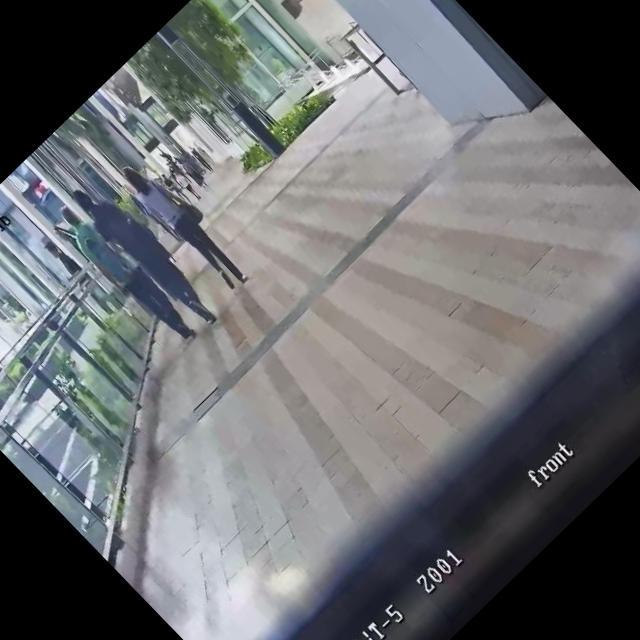person: (66, 172, 230, 339), (50, 196, 204, 354), (113, 150, 258, 298), (43, 236, 83, 278), (172, 153, 210, 191), (168, 164, 204, 202), (175, 152, 211, 188), (185, 145, 214, 174), (157, 170, 185, 200), (188, 145, 215, 173)
